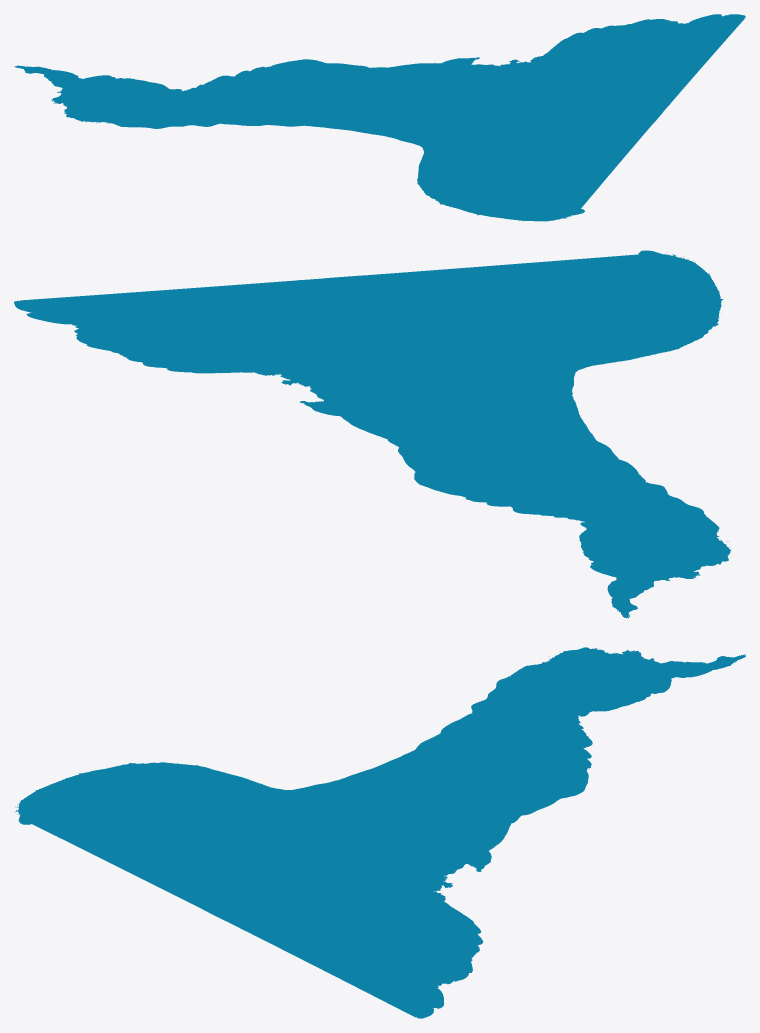
File: water.glb
The picture shows the model from 3 angles, top to bottom: view 1: azimuth 30°, elevation 25°; view 2: azimuth 150°, elevation 25°; view 3: azimuth 270°, elevation 25°; orthographic projection. The views are drawn at different scales.
Parts seen in each view (by area): view 1: water; view 2: water; view 3: water.
Part boxes in pixels (bbox=[...]): water: bbox=[14, 14, 745, 221]; water: bbox=[14, 250, 730, 618]; water: bbox=[15, 647, 745, 1018].
Bounding box in the file's own units: 325613 × 39.75 × 271077.
